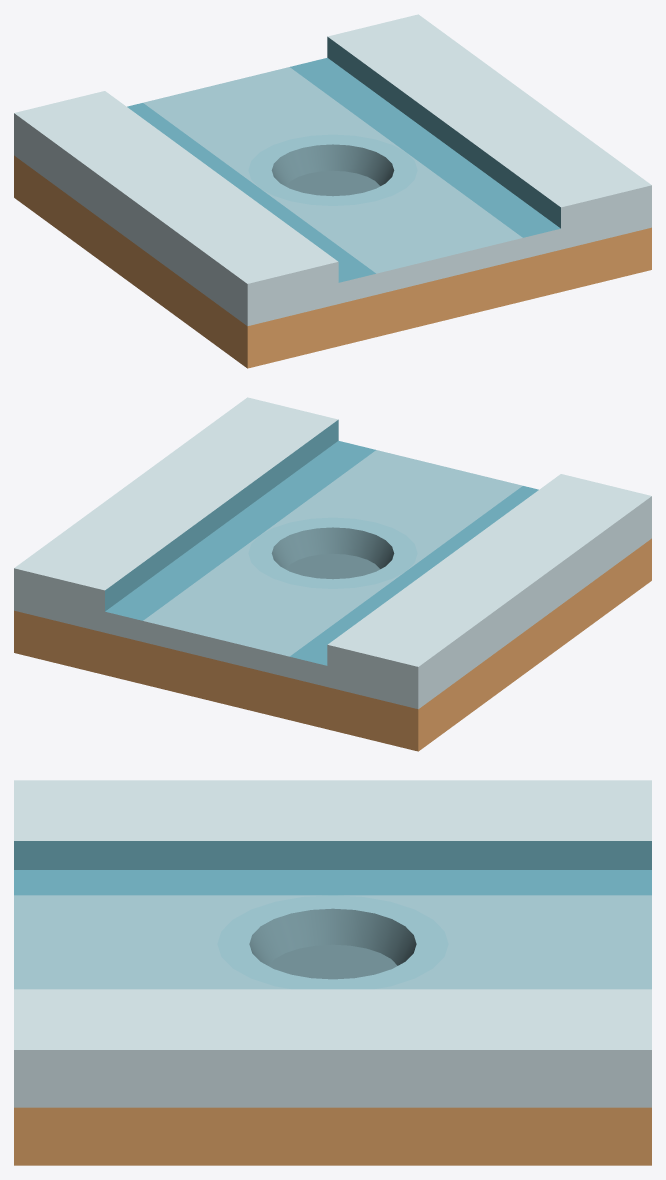
File: snow_tile_spawnRound.dae
3 views of the same model, one above another, from view 1: azimuth 30°, elevation 25°; view 2: azimuth 150°, elevation 25°; view 3: azimuth 270°, elevation 25° (orthographic). The views are drawn at different scales.
Parts seen in each view (by area): view 1: snow_tile_spawnRound; view 2: snow_tile_spawnRound; view 3: snow_tile_spawnRound.
Part boxes in pixels (x1,y1,x2,y2): snow_tile_spawnRound: (14, 14, 651, 368); snow_tile_spawnRound: (14, 397, 651, 751); snow_tile_spawnRound: (14, 780, 651, 1165).
Size of the model in its own units: 1 by 0.2 by 1.
